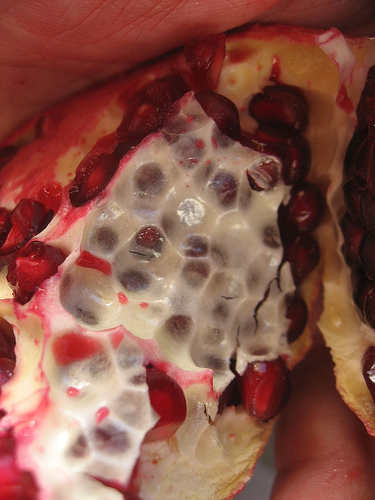pomogranate: (0, 22, 373, 498)
